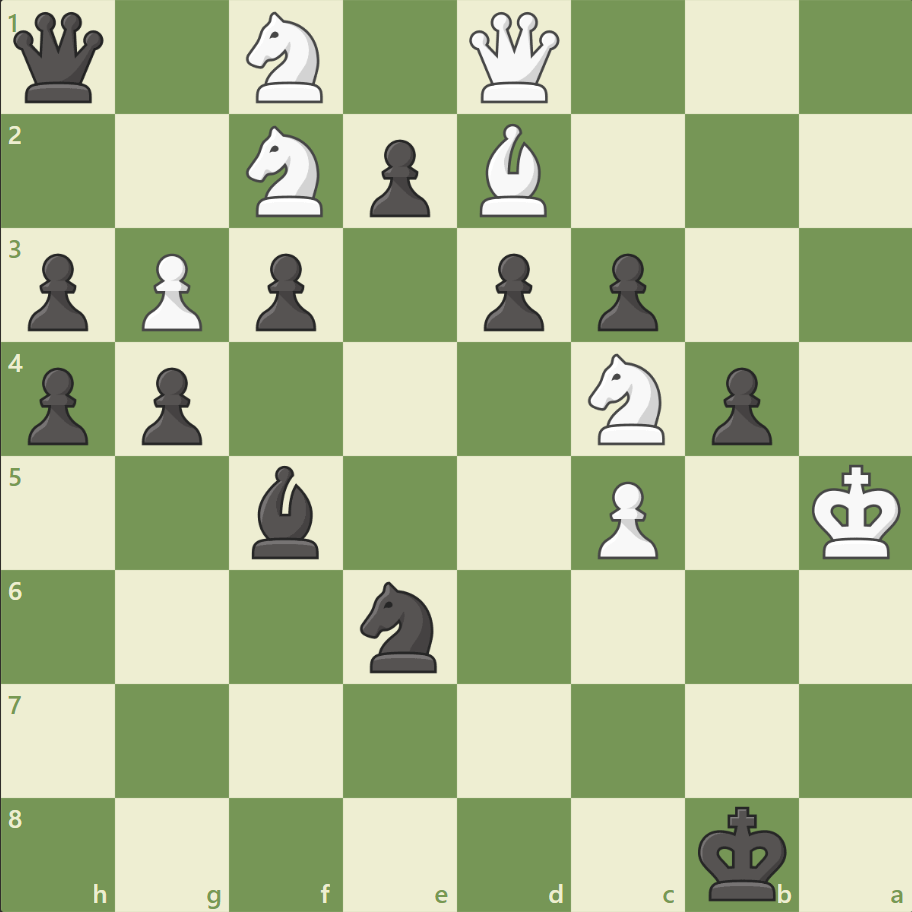B: (471, 120, 555, 222)
K: (806, 458, 906, 566)
N: (238, 7, 335, 110), (579, 348, 676, 450), (238, 121, 335, 223)
P: (133, 246, 208, 337), (588, 473, 662, 564)
Q: (464, 9, 563, 108)
b: (244, 460, 328, 563)
k: (692, 798, 792, 906)
n: (351, 575, 449, 677)
p: (701, 359, 776, 450), (133, 359, 208, 450), (20, 359, 95, 450), (474, 246, 549, 337), (247, 246, 322, 337), (20, 246, 95, 337), (588, 246, 662, 337), (361, 132, 435, 223)
q: (10, 9, 109, 108)
